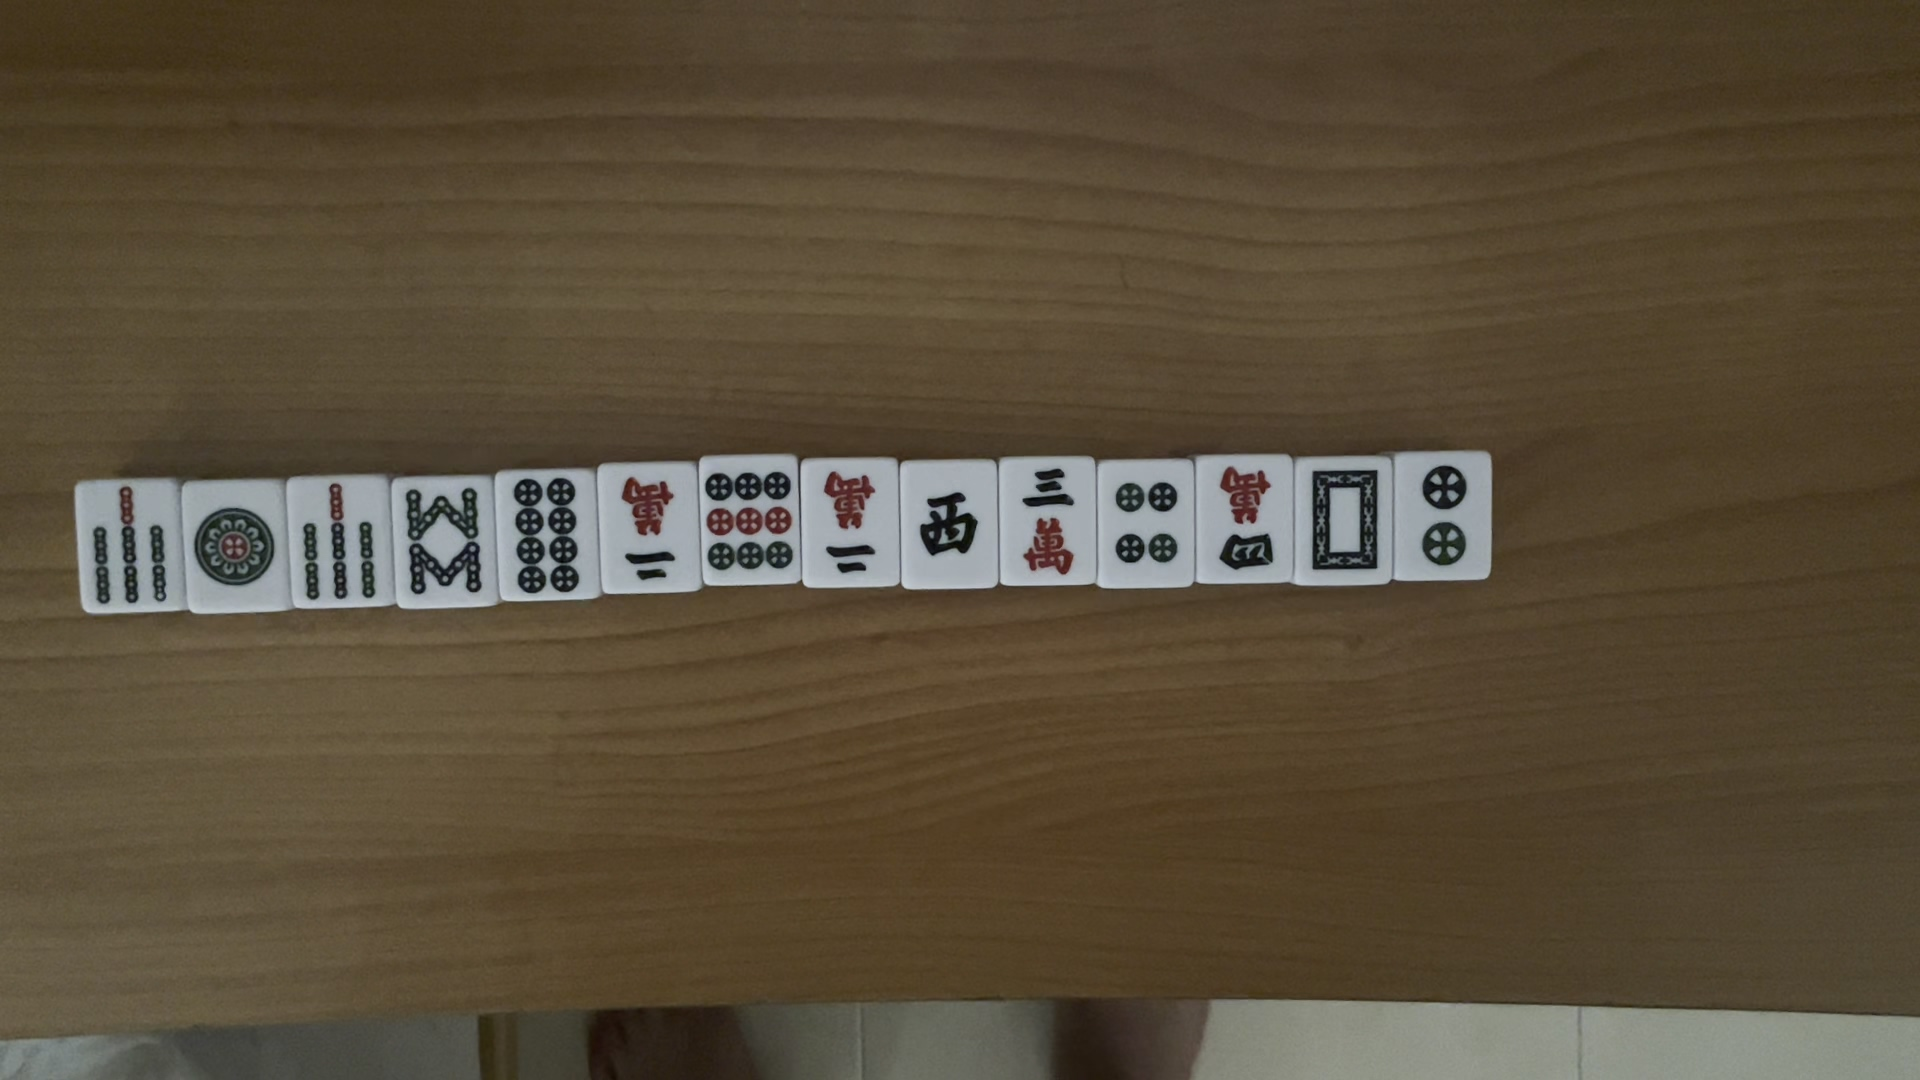b-7: (83, 483, 173, 608), (293, 477, 382, 603)
b-8: (400, 487, 487, 599)
c-2: (808, 467, 891, 580), (603, 473, 684, 585)
c-3: (1018, 465, 1080, 575)
c-4: (1216, 465, 1278, 575)
d-1: (190, 506, 278, 593)
d-2: (1410, 456, 1477, 570)
d-4: (1113, 479, 1184, 579)
d-8: (506, 477, 580, 592)
d-9: (702, 465, 794, 572)
honors-west: (907, 483, 984, 564)
honors-white: (1302, 463, 1385, 578)
